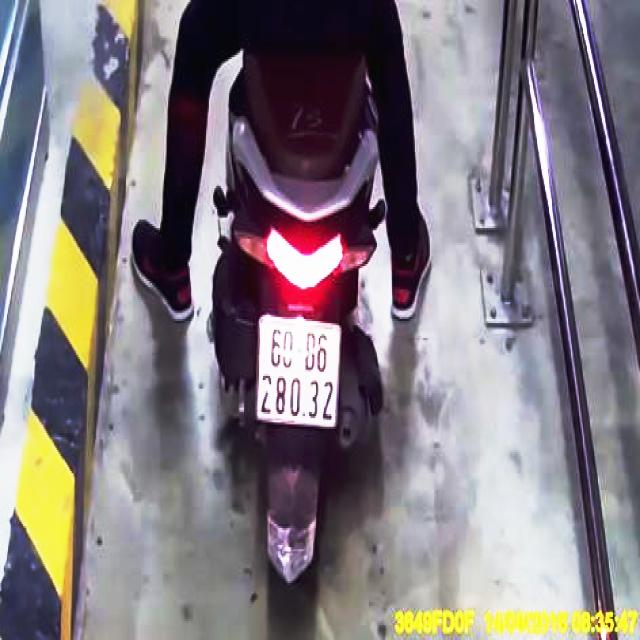license_plate: (255, 314, 342, 430)
